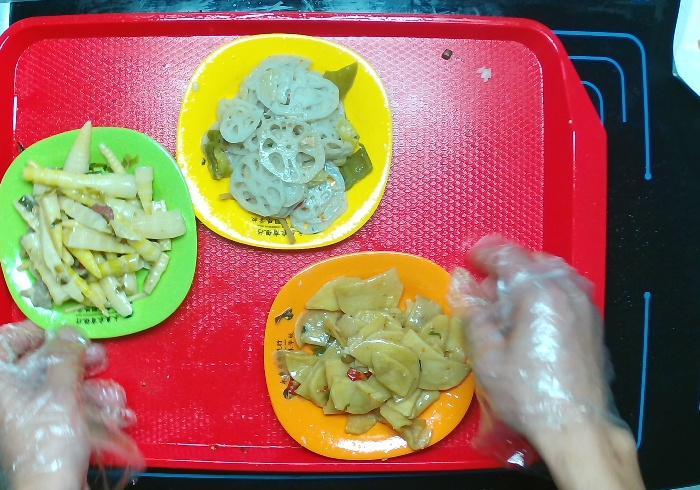YKMZ-Huang_Se_Fang_Die: (166, 30, 398, 257)
YKMZ-Ju_Se_Fang_Die: (259, 246, 480, 470)
YKMZ-Lv_Se_Fang_Die: (1, 122, 203, 350)
